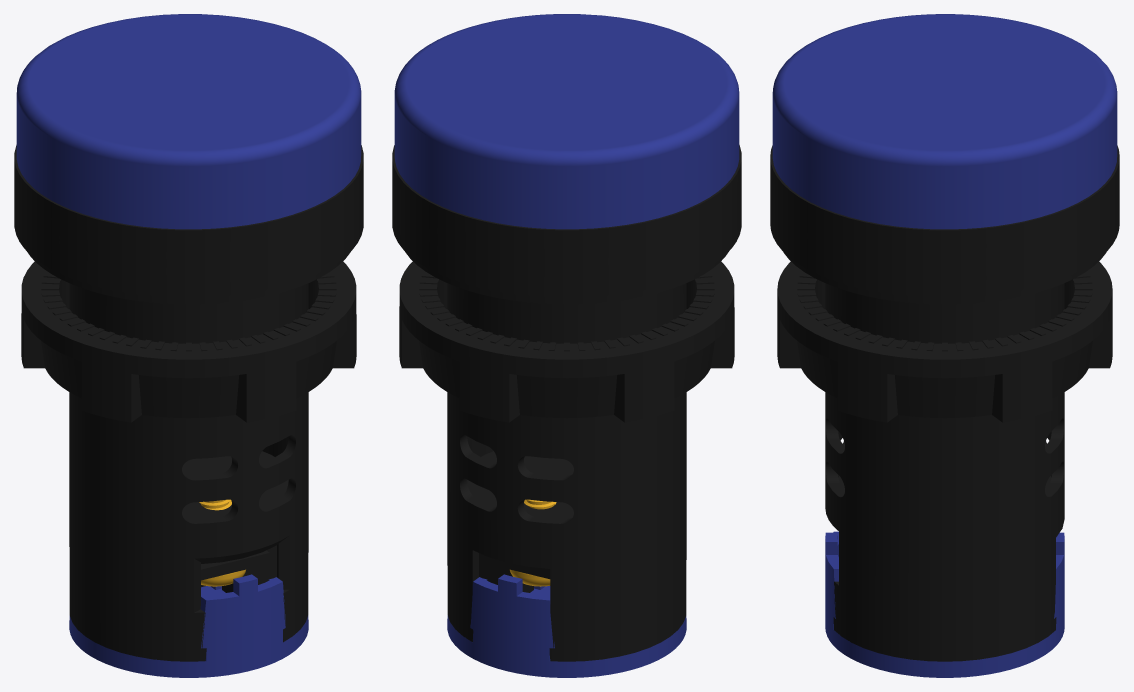
The model's file is AD16-22DS Pilot Light Blue.fbx.
3 views of the same model, side by side, from view 1: azimuth 30°, elevation 25°; view 2: azimuth 150°, elevation 25°; view 3: azimuth 270°, elevation 25° (orthographic).
Visible parts, largest first — view 1: Body1, Body2, Body3, Body4, Body5, Body6; view 2: Body1, Body2, Body3, Body4, Body8, Body7; view 3: Body1, Body2, Body3, Body4.
Part boxes in pixels (left/top/right/bottom): Body1: left=14, top=145, right=363, bottom=661; Body2: left=16, top=14, right=361, bottom=229; Body3: left=21, top=261, right=356, bottom=422; Body4: left=69, top=574, right=308, bottom=677; Body5: left=201, top=550, right=269, bottom=580; Body6: left=199, top=499, right=245, bottom=586; Body1: left=392, top=145, right=741, bottom=661; Body2: left=394, top=14, right=739, bottom=229; Body3: left=399, top=261, right=734, bottom=422; Body4: left=447, top=574, right=686, bottom=677; Body8: left=510, top=499, right=556, bottom=586; Body7: left=486, top=556, right=550, bottom=579; Body1: left=770, top=145, right=1119, bottom=661; Body2: left=772, top=14, right=1117, bottom=229; Body3: left=777, top=261, right=1112, bottom=422; Body4: left=825, top=531, right=1064, bottom=677.
Size of the model in its own units: 29.2 by 50.2 by 29.2.
